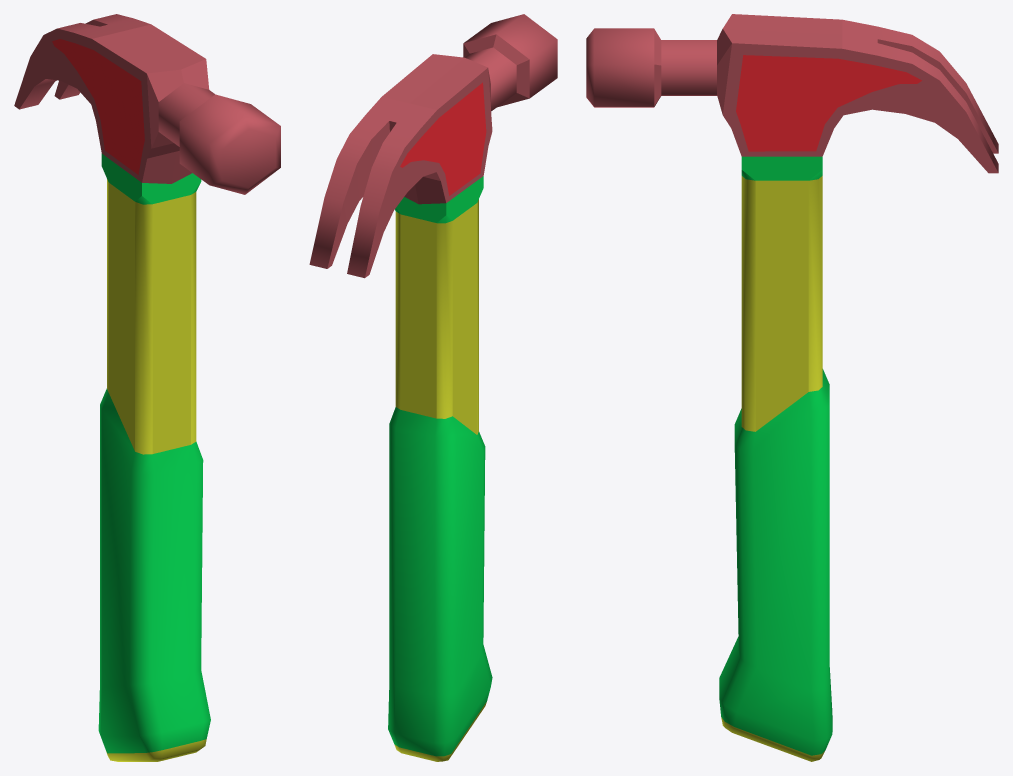
The model's file is claw-hammer.fbx.
The picture shows the model from 3 angles, left to right: view 1: azimuth 30°, elevation 25°; view 2: azimuth 150°, elevation 25°; view 3: azimuth 270°, elevation 25°; orthographic projection. The views are drawn at different scales.
Parts seen in each view (by area): view 1: tokmak.001; view 2: tokmak.001; view 3: tokmak.001.
Boxes of the visible parts, left/top/right/bottom form: tokmak.001: left=14, top=14, right=280, bottom=761; tokmak.001: left=309, top=14, right=557, bottom=761; tokmak.001: left=586, top=14, right=998, bottom=761.
Size of the model in its own units: 4.5 by 43.28 by 22.35.
